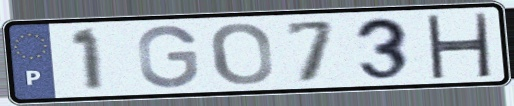1: (67, 27, 112, 93)
3: (353, 13, 420, 84)
7: (283, 18, 340, 85)
G: (136, 23, 202, 90)
H: (422, 12, 494, 79)
O: (207, 21, 276, 88)
